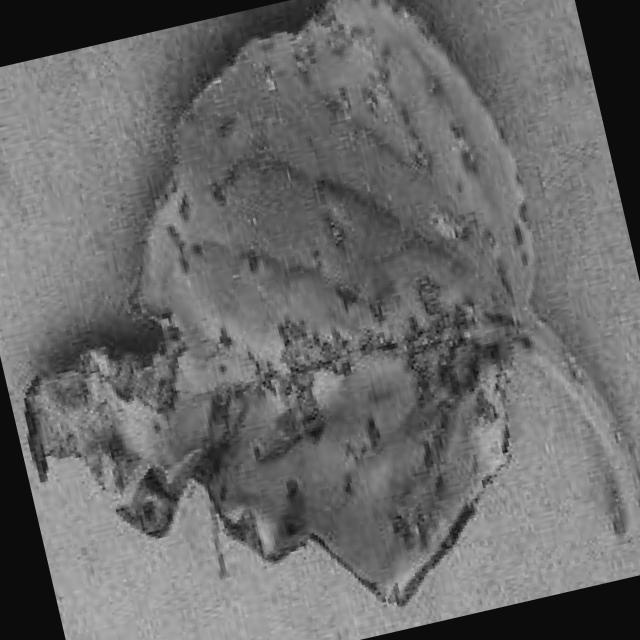bacterial spot: (26, 0, 640, 611)
